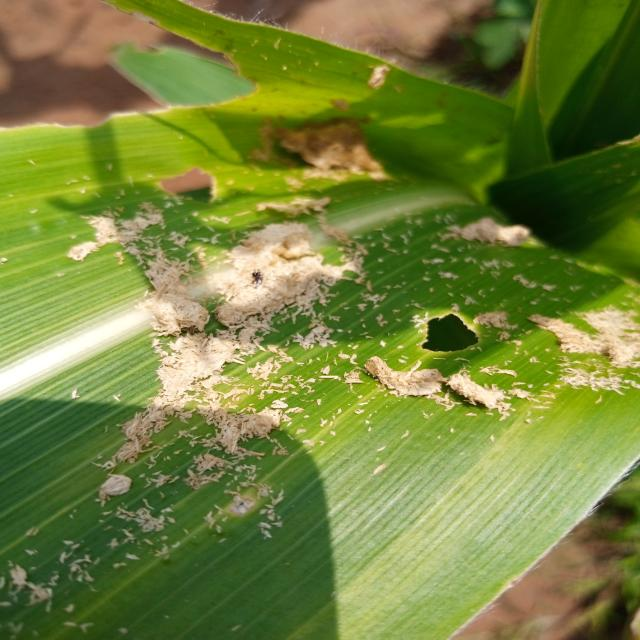fall-armyworm-egg: (78, 396, 331, 500), (450, 220, 532, 249)
fall-armyworm-frass: (148, 229, 306, 393), (364, 364, 522, 422), (550, 310, 640, 395), (297, 122, 392, 176), (63, 212, 126, 260)
fall-armyworm-larval-damage: (0, 85, 262, 145), (130, 148, 238, 222), (410, 313, 480, 359)
